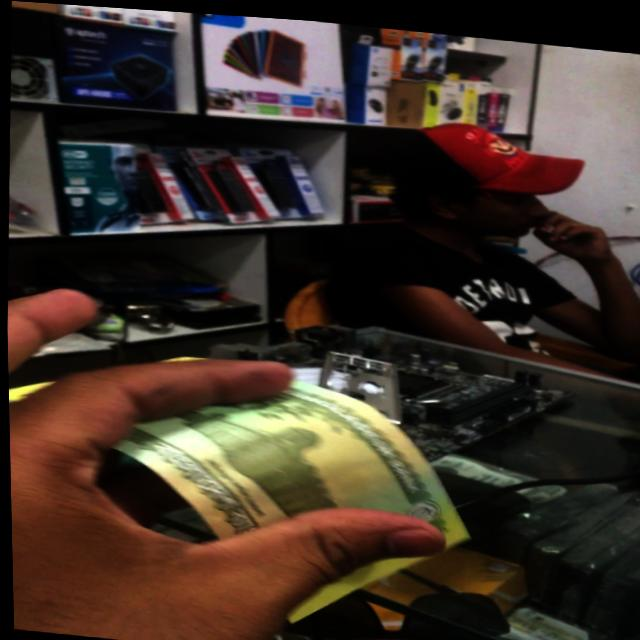Taka: (64, 342, 474, 610)
